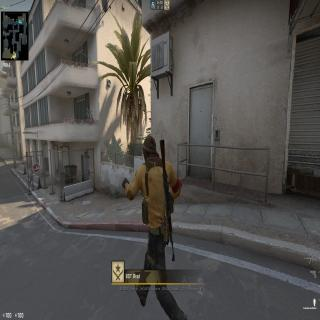T-Head: (142, 132, 158, 162)
